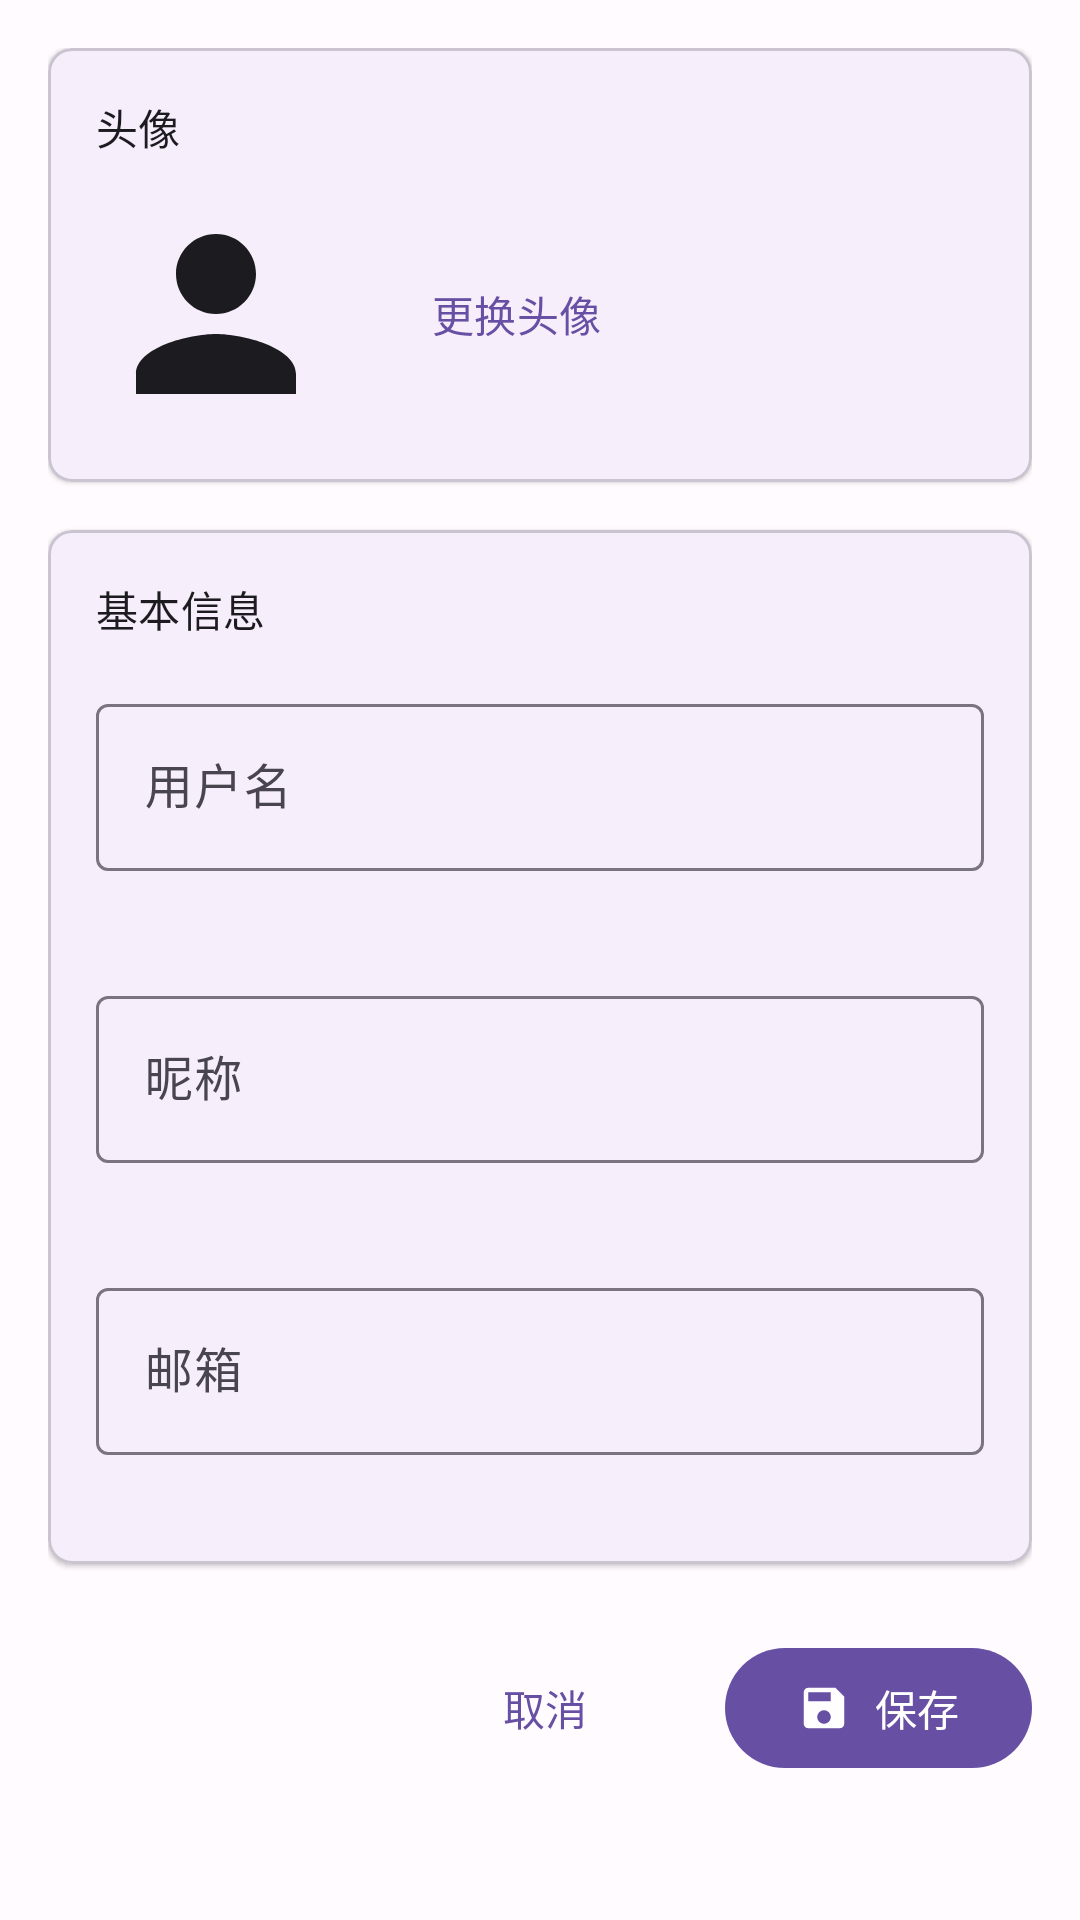

Named icons in this screenshot (1080 × 1920) and their centers, (x=x, y=y):
profile: (x=216, y=314)
